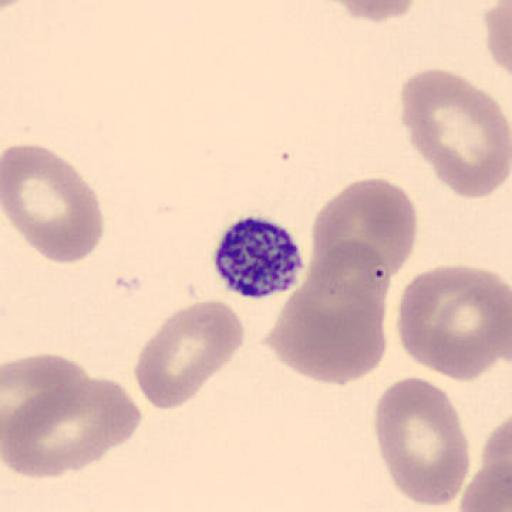Platelet: (210, 214, 306, 300)
RBC: (271, 237, 390, 388), (1, 374, 144, 480), (399, 66, 512, 200), (397, 263, 512, 382), (372, 373, 471, 509), (1, 142, 104, 266), (134, 299, 246, 410), (309, 176, 419, 282), (40, 375, 143, 473), (432, 266, 511, 380), (2, 388, 92, 479), (2, 352, 90, 436), (458, 416, 512, 512), (473, 413, 512, 511), (458, 447, 511, 512), (459, 465, 511, 512), (483, 0, 512, 76), (329, 0, 421, 23)
